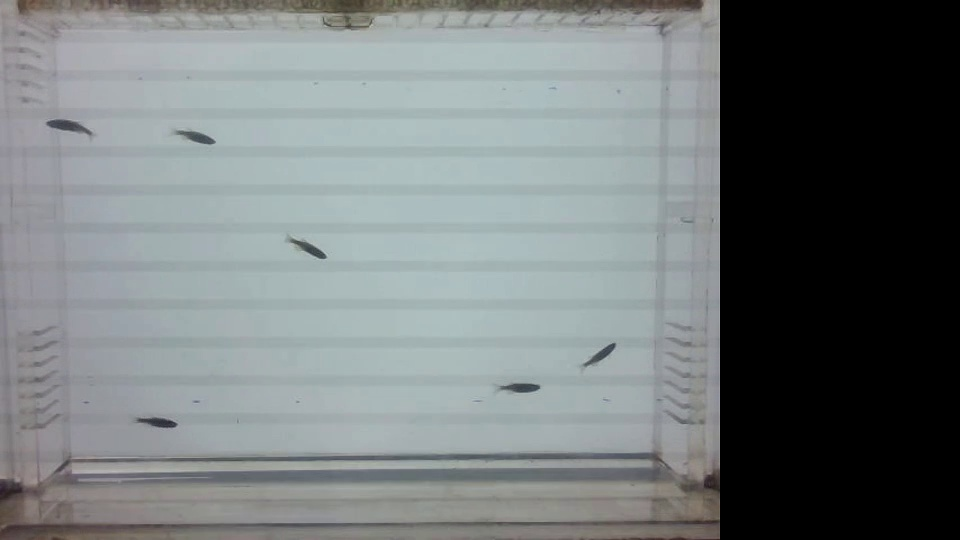fish: (38, 113, 96, 148), (272, 233, 328, 269), (572, 332, 616, 376), (165, 118, 220, 153), (126, 408, 184, 436), (489, 373, 538, 401)
